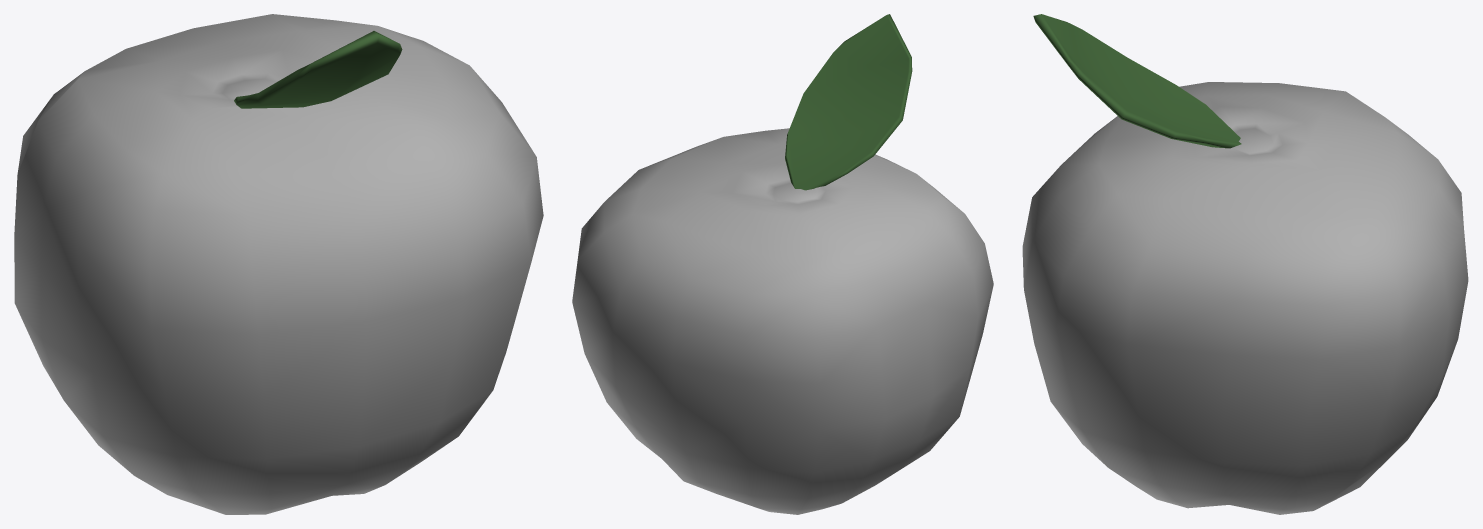
Rendered from Apple.fbx.
3 views of the same model, side by side, from view 1: azimuth 30°, elevation 25°; view 2: azimuth 150°, elevation 25°; view 3: azimuth 270°, elevation 25° (orthographic). The views are drawn at different scales.
Parts seen in each view (by area): view 1: Apple4; view 2: Apple4; view 3: Apple4.
Boxes of the visible parts, <box> form: Apple4: <box>14,14,543,514</box>; Apple4: <box>572,14,993,514</box>; Apple4: <box>1022,14,1468,514</box>.
Size of the model in its own units: 34.2 by 38.12 by 33.55.
